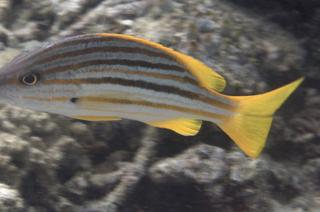Lutjanidae -Snappers-: (0, 29, 306, 159)
